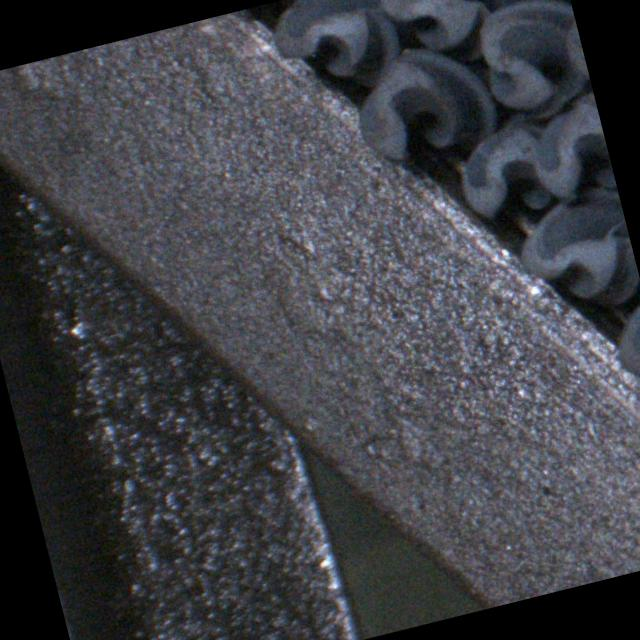tool_b: (344, 31, 500, 172), (507, 187, 640, 322), (471, 0, 595, 125), (265, 0, 406, 104), (447, 109, 563, 229), (521, 91, 620, 217), (371, 0, 508, 62)
